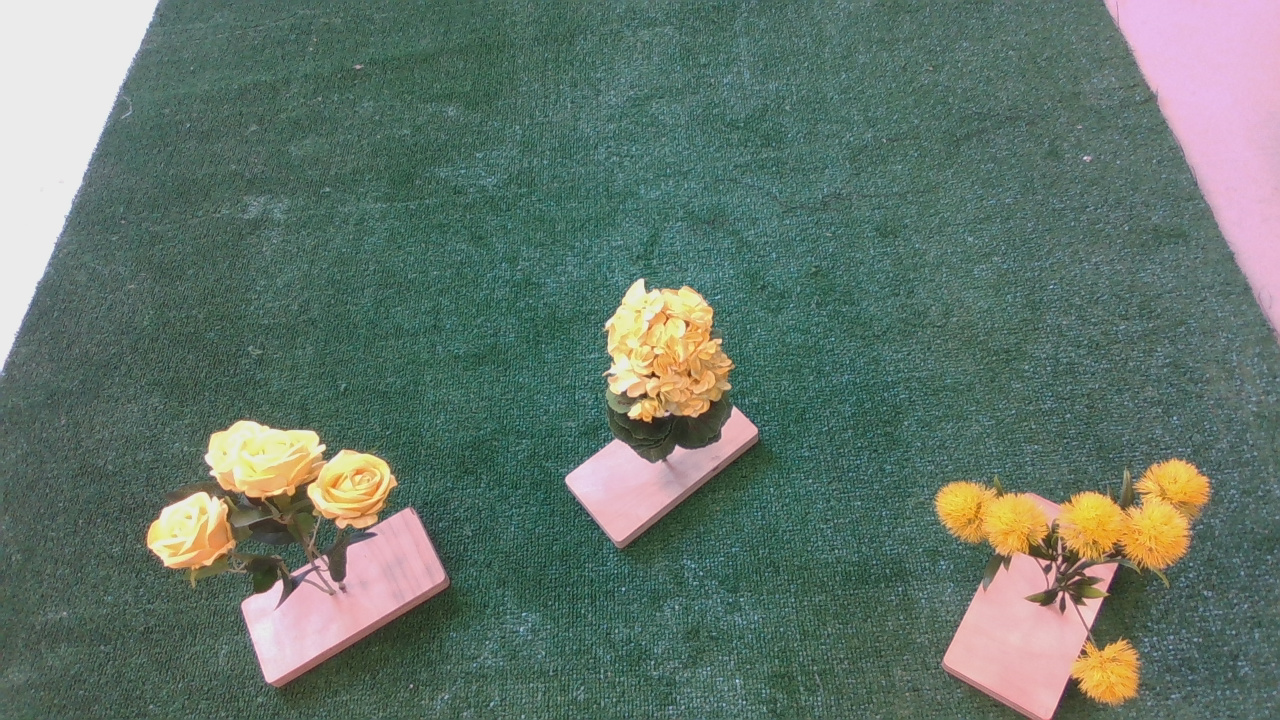dandelion: (908, 414, 1221, 716)
geranium: (584, 268, 740, 463)
rose: (122, 418, 412, 597)
